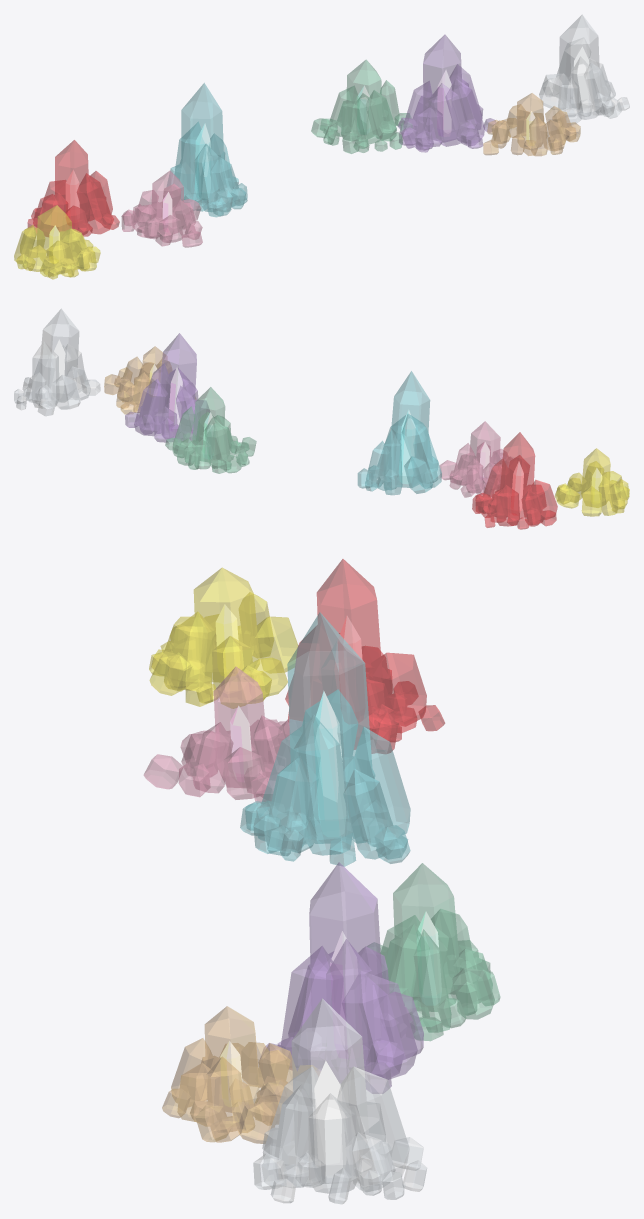
File: garden.glb
3 views of the same model, one above another, from view 1: azimuth 30°, elevation 25°; view 2: azimuth 150°, elevation 25°; view 3: azimuth 270°, elevation 25° (orthographic). The views are drawn at different scales.
Visible parts, largest first — view 1: Lagoon_Crown, Amethyst_Crown, Quartz_Crown, Ruby_Crown, Jade_Crown, Lagoon_Satellite_04, Amethyst_Satellite_05, Citrine_Crown, Amethyst_Satellite_06, Rose_Crown, Lagoon_Satellite_05, Ruby_Satellite_06 (+36 smaller); view 2: Lagoon_Crown, Quartz_Crown, Amethyst_Crown, Ruby_Crown, Jade_Crown, Lagoon_Satellite_04, Quartz_Satellite_02, Amethyst_Satellite_01, Rose_Crown, Citrine_Crown, Lagoon_Satellite_02, Jade_Satellite_03 (+35 smaller); view 3: Lagoon_Crown, Quartz_Crown, Amethyst_Crown, Jade_Crown, Lagoon_Satellite_00, Citrine_Crown, Ruby_Crown, Amethyst_Satellite_01, Quartz_Satellite_02, Rose_Crown, Amethyst_Satellite_00, Quartz_Satellite_00 (+47 smaller).
Part boxes in pixels (x1,y1,x2,y2): Lagoon_Crown: (181,83,224,202); Amethyst_Crown: (423,34,462,142); Quartz_Crown: (559,14,599,107); Ruby_Crown: (55,140,89,229); Jade_Crown: (346,59,381,138); Lagoon_Satellite_04: (173,122,205,202); Amethyst_Satellite_05: (428,83,466,146); Citrine_Crown: (36,205,72,263); Amethyst_Satellite_06: (445,79,484,144); Rose_Crown: (151,170,184,233); Lagoon_Satellite_05: (194,144,226,211); Ruby_Satellite_06: (77,173,111,234); Lagoon_Crown: (390,371,430,487); Quartz_Crown: (40,308,79,402); Amethyst_Crown: (158,333,196,426); Ruby_Crown: (500,432,535,518); Jade_Crown: (192,387,225,462); Lagoon_Satellite_04: (402,414,441,488); Quartz_Satellite_02: (31,341,59,408); Amethyst_Satellite_01: (134,379,167,436); Rose_Crown: (469,421,500,482); Citrine_Crown: (581,448,610,507); Lagoon_Satellite_02: (383,429,402,495); Jade_Satellite_03: (204,417,230,468); Lagoon_Crown: (287,612,372,843); Quartz_Crown: (291,998,368,1183); Amethyst_Crown: (309,862,382,1040); Jade_Crown: (393,863,460,1011); Lagoon_Satellite_00: (293,714,352,855); Citrine_Crown: (193,567,259,682); Ruby_Crown: (316,559,384,707); Amethyst_Satellite_01: (342,971,417,1079); Quartz_Satellite_02: (337,1066,409,1184); Rose_Crown: (213,666,268,787); Amethyst_Satellite_00: (326,939,375,1083); Quartz_Satellite_00: (308,1093,358,1193).
Size of the model in its own units: 9.36 by 1.75 by 2.51.
